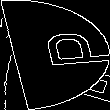P_W: (8, 33, 102, 77)
